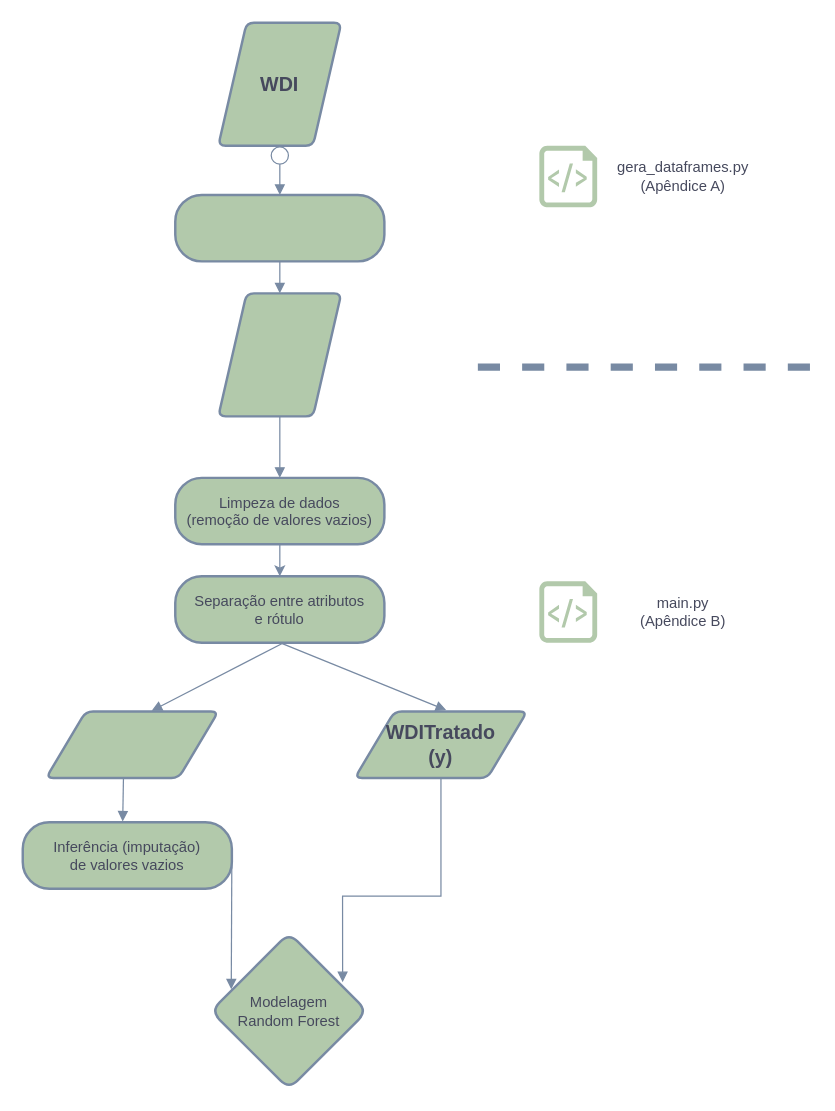
This 835x1111 diagram has some shape labels left out. The centre of each missing label's shape, as x and y in pixels:
Transformação dos dados com Melt + Pivot: the point at 279,227
WDI Tratado: the point at 279,354
WDITratado (X): the point at 131,744
